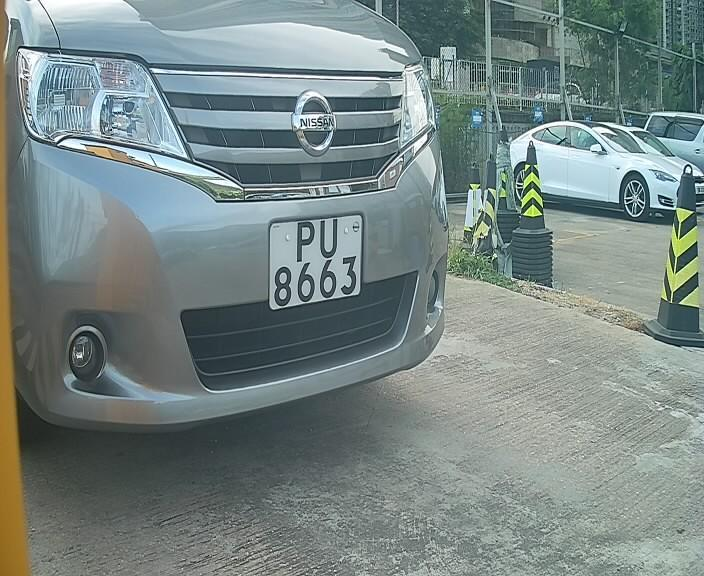privatecar: (19, 19, 466, 435)
